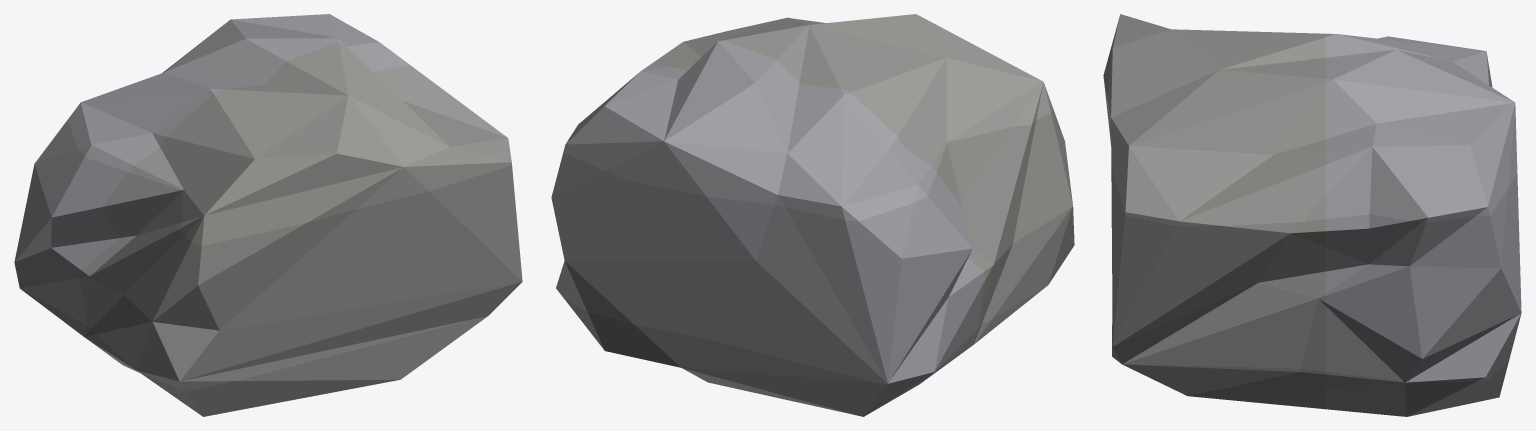
The model's file is YN_Rock2.fbx.
The picture shows the model from 3 angles, left to right: view 1: azimuth 30°, elevation 25°; view 2: azimuth 150°, elevation 25°; view 3: azimuth 270°, elevation 25°; orthographic projection. The views are drawn at different scales.
Visible parts, largest first — view 1: Rock2; view 2: Rock2; view 3: Rock2.
Part boxes in pixels (bbox=[...]): Rock2: bbox=[14, 14, 522, 416]; Rock2: bbox=[551, 14, 1074, 416]; Rock2: bbox=[1103, 14, 1521, 416].
Bounding box in the file's own units: 0.591 × 0.4415 × 0.5057.
